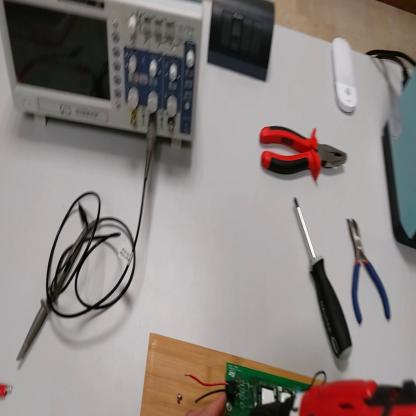electric screwdriver: (252, 371, 416, 414)
hand: (194, 392, 228, 414)
high voltage board: (183, 362, 327, 414)
oscilloscope: (2, 2, 204, 152)
oscilloscope probe tip: (18, 215, 101, 362)
pliers: (257, 114, 350, 189), (345, 213, 395, 328)
screwdriver-: (294, 198, 354, 365)
welder station: (382, 73, 416, 252)
working area: (140, 335, 337, 416)
